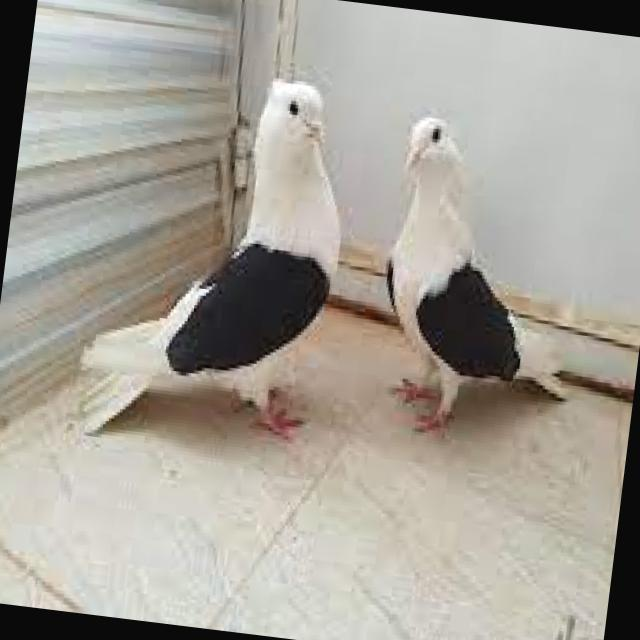bird: (76, 55, 378, 465), (359, 107, 606, 454)
